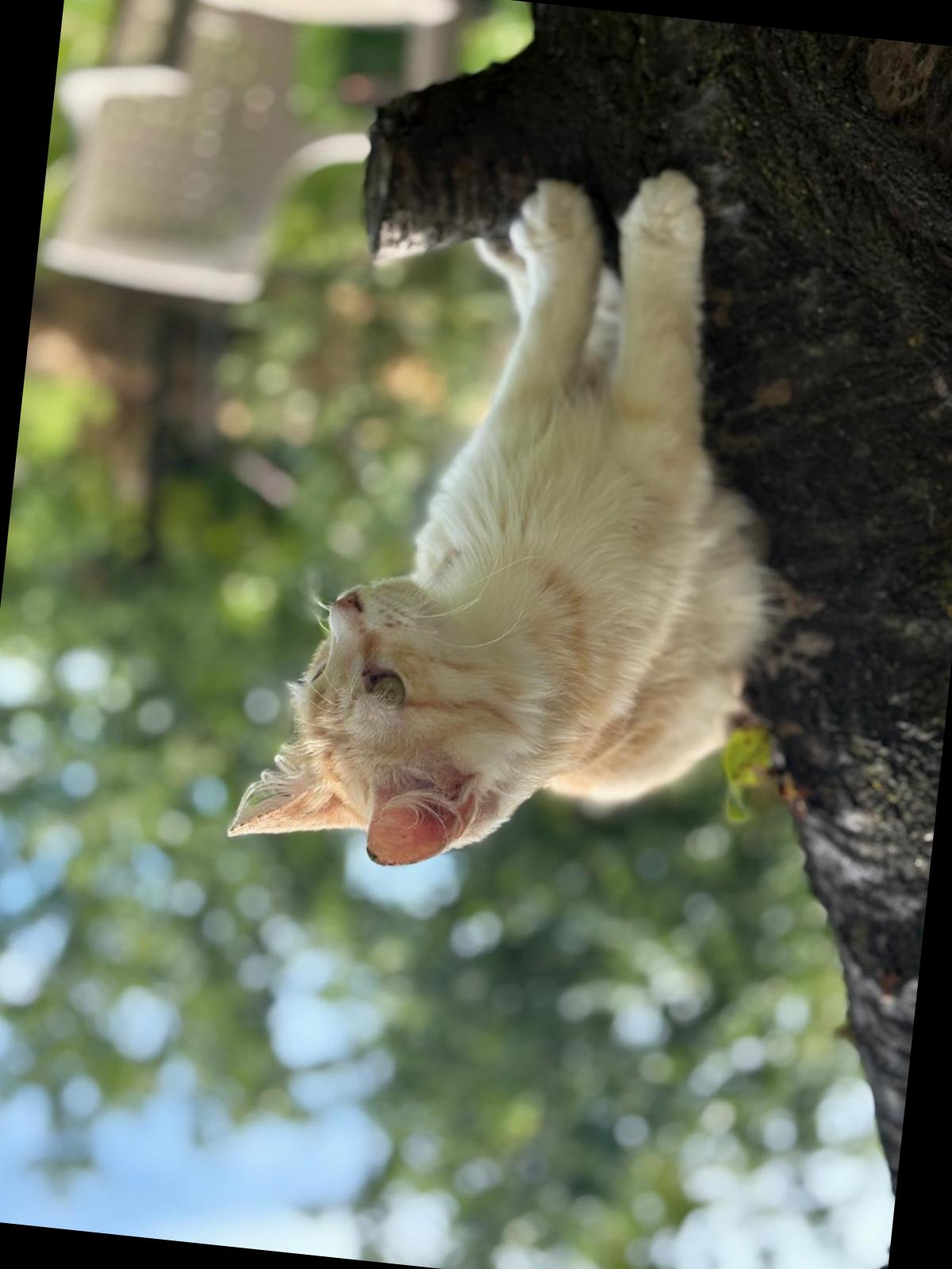macka: (226, 132, 818, 904)
